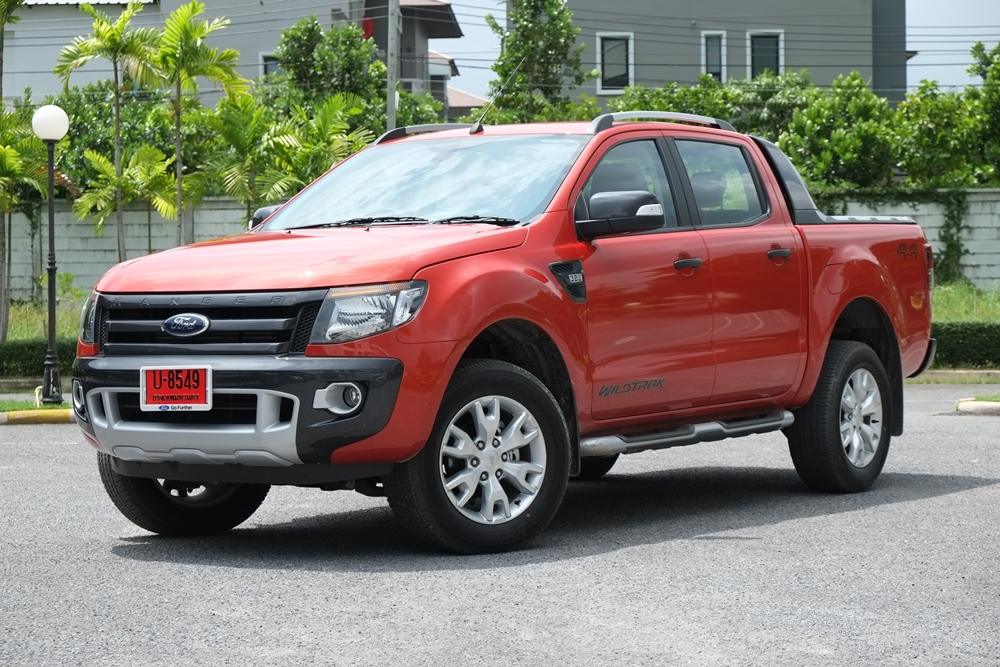pickup: (66, 118, 940, 553)
